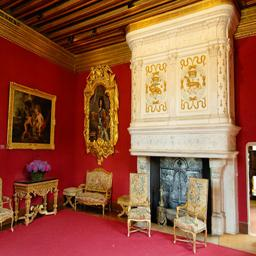chair: (220, 204, 256, 256), (232, 214, 256, 256), (1, 220, 29, 256)
pottedplant: (50, 201, 101, 238)
sofa: (145, 220, 221, 256)
